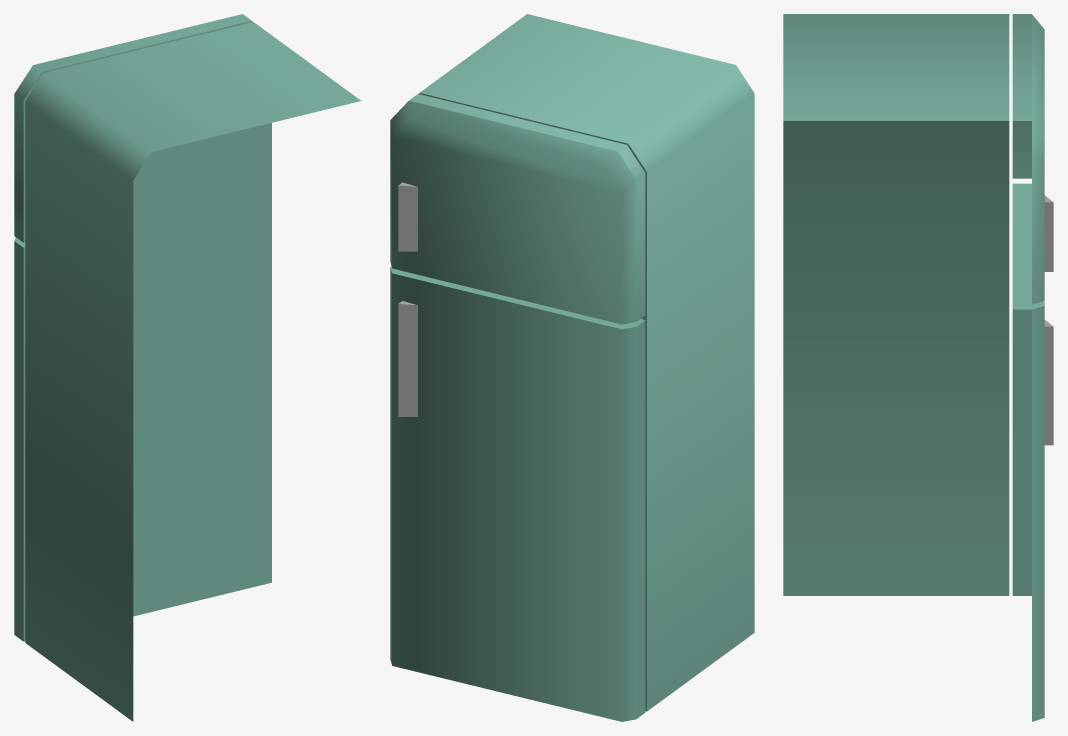
File: interior_A_013.fbx
The picture shows the model from 3 angles, left to right: view 1: azimuth 30°, elevation 25°; view 2: azimuth 150°, elevation 25°; view 3: azimuth 270°, elevation 25°; orthographic projection. The views are drawn at different scales.
Visible parts, largest first — view 1: interior_A_013; view 2: interior_A_013; view 3: interior_A_013.
Part boxes in pixels (x1,y1,x2,y2): interior_A_013: (14,14,360,721); interior_A_013: (390,14,754,721); interior_A_013: (783,14,1053,721).
Size of the model in its own units: 81.25 by 178 by 73.68.
